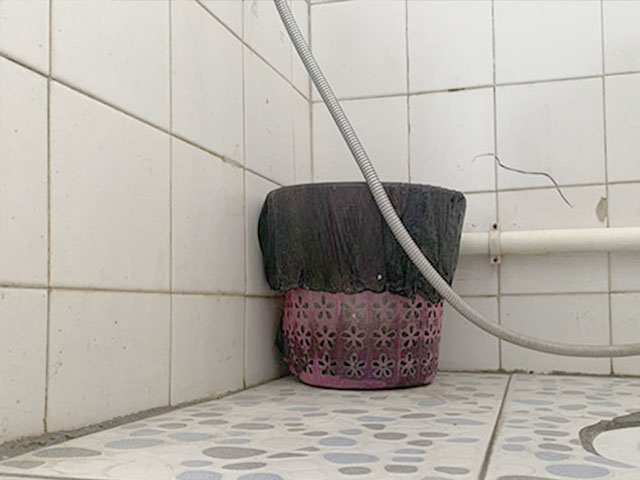trashcan: (255, 176, 464, 394)
